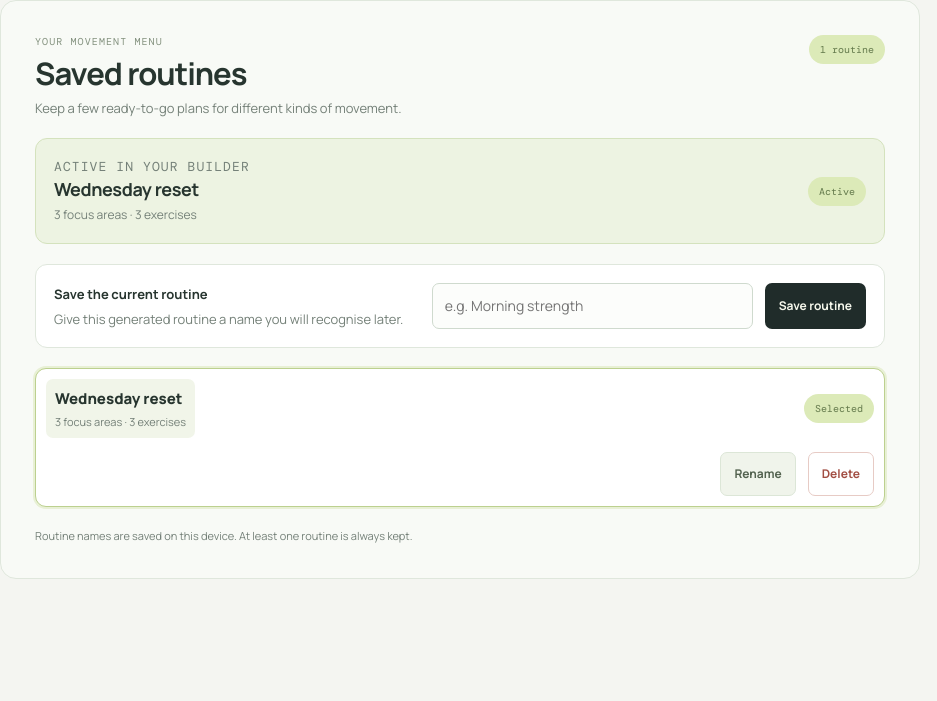
it: RoutineManager › validates and then saves a renamed routine without changing its ID
Click the button with aria-label "Rename Wednesday reset" at (758, 474), box [720,452,796,496]
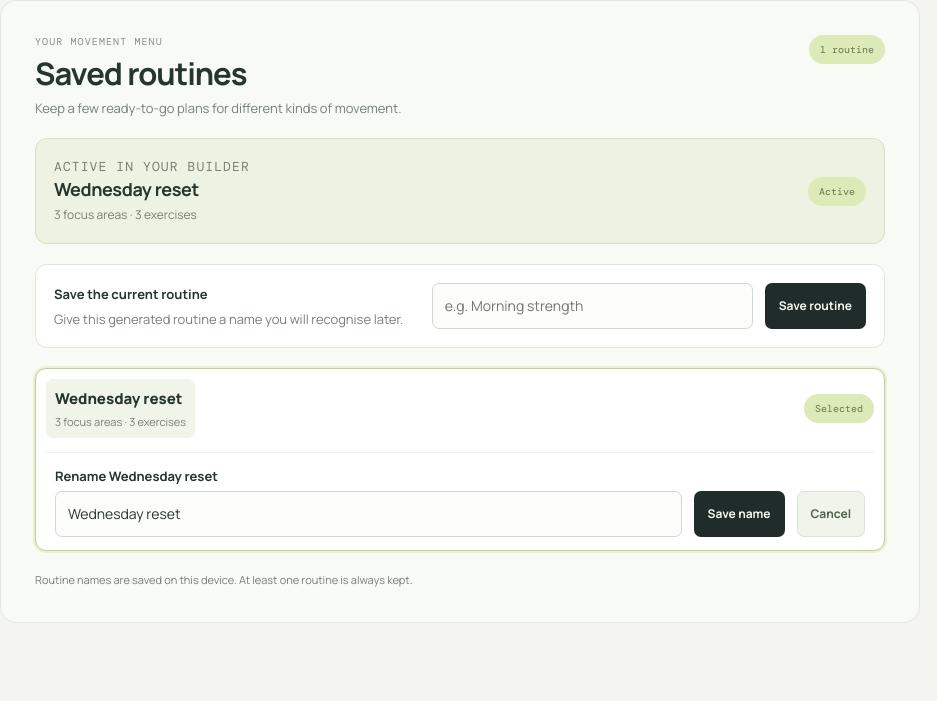
Clear the field labelled "Rename Wednesday reset" at (368, 514), box [55,491,682,537]
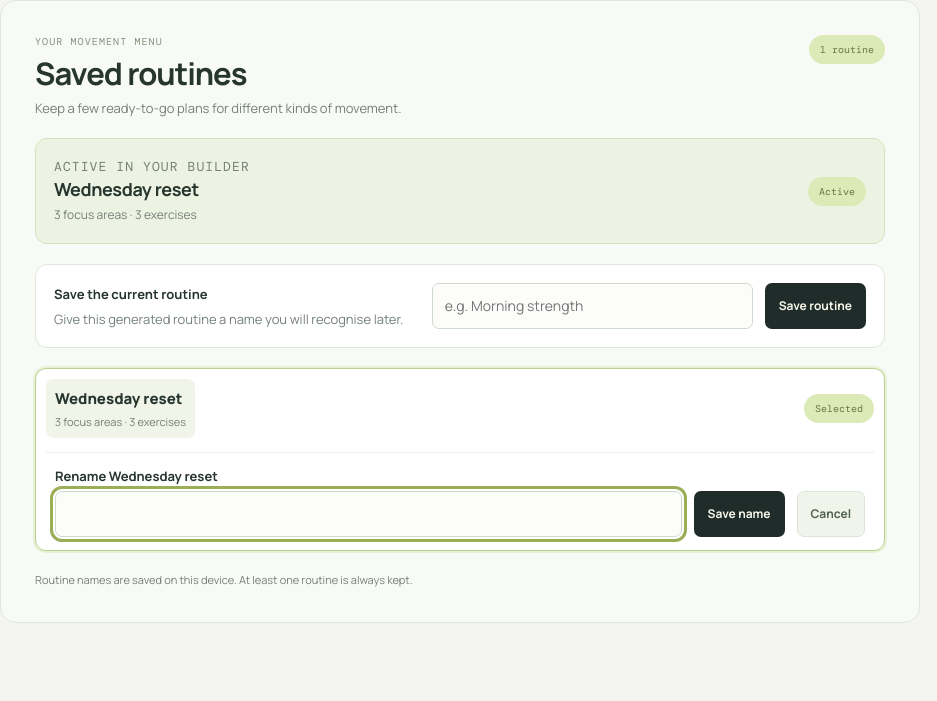
Click the button "Save name" at (739, 514), box [694,491,784,537]
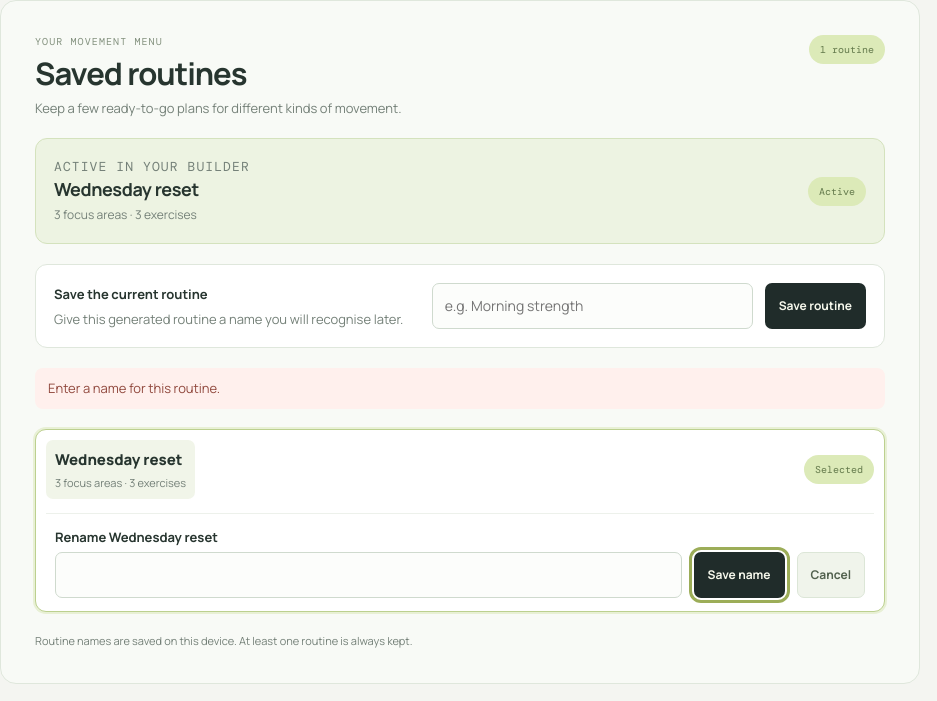
Expected: the message reads "Enter a name for this routine.", [48,379,220,397]
Type "Evening recovery" into the field labelled "Rename Wednesday reset" at (368, 575), box [55,552,682,598]
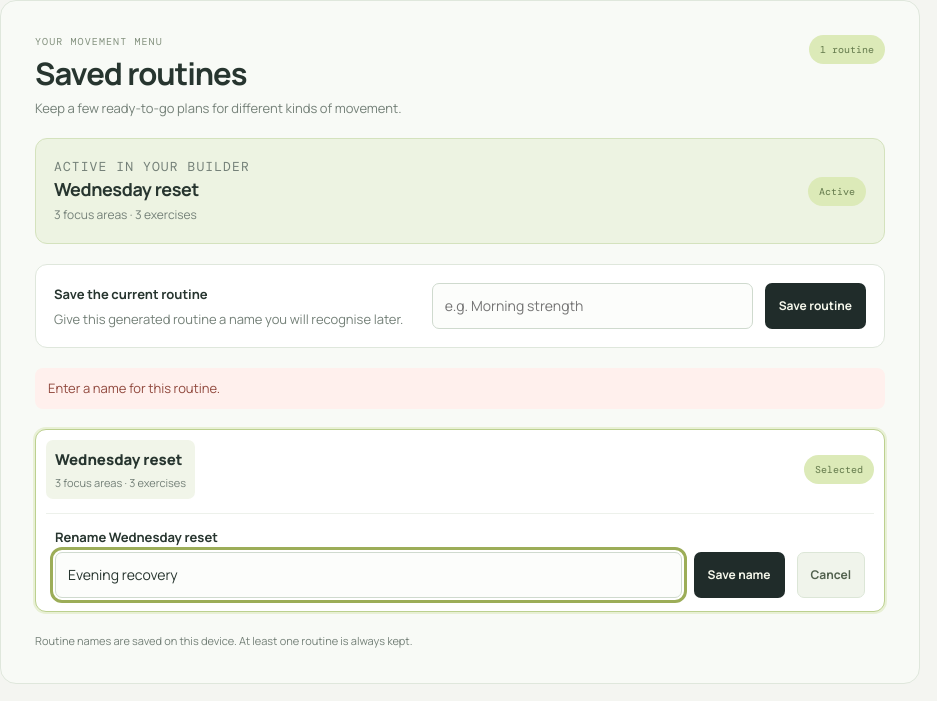
Click the button "Save name" at (739, 575), box [694,552,784,598]
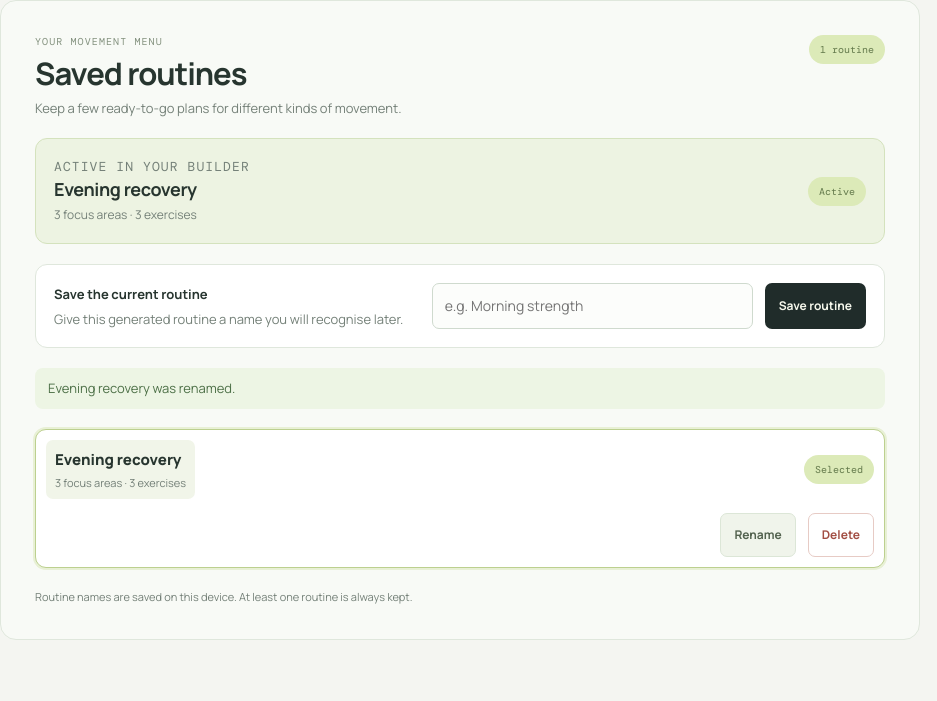
Expected: the heading "Evening recovery" is shown, [54,177,197,201]
